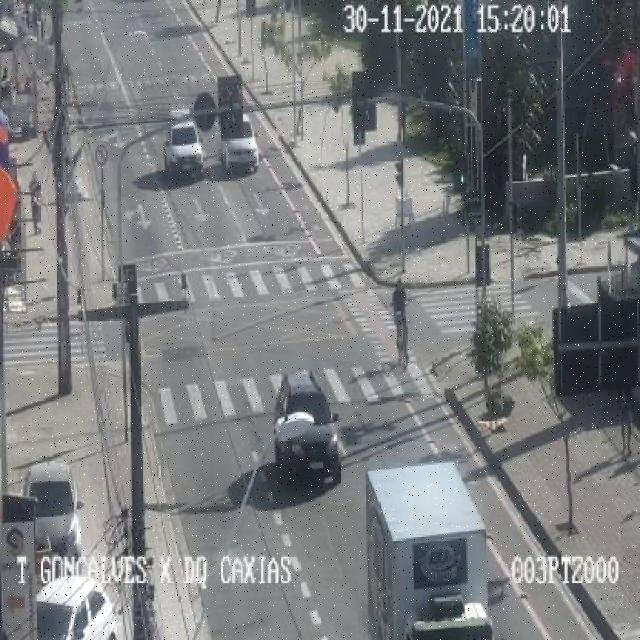Car: (272, 371, 341, 483), (20, 462, 82, 560), (36, 571, 117, 640), (162, 108, 206, 178), (219, 112, 259, 173)
Cycle: (390, 298, 411, 369)
Truck: (362, 461, 492, 640)
